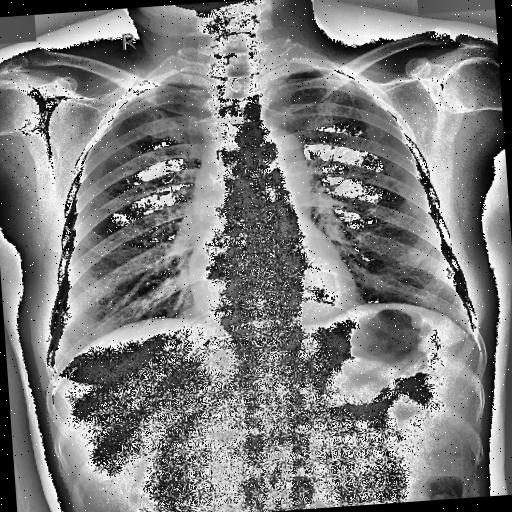0- Aortic enlargement: (238, 123, 308, 187), (247, 122, 308, 188)
11- Pleural thickening: (316, 64, 360, 88)
